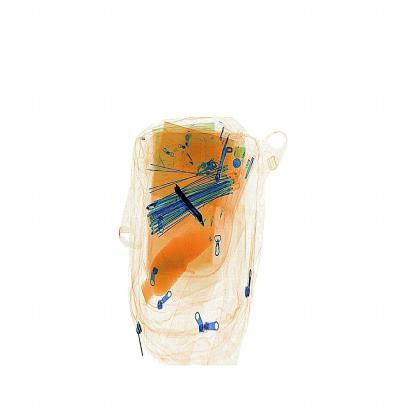knife: (174, 184, 208, 223)
